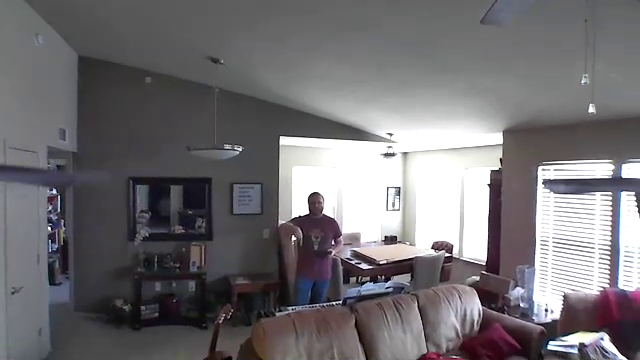down: (289, 224, 306, 249)
